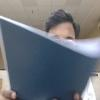notebook: (0, 14, 97, 99)
